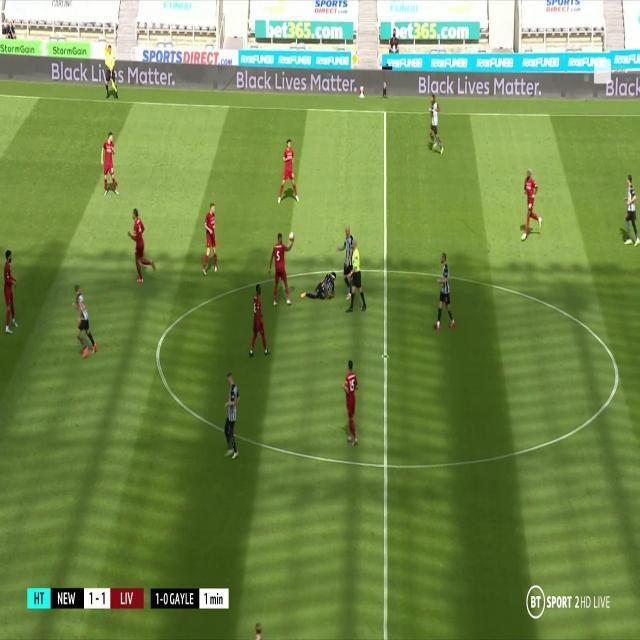ball: (288, 230, 296, 243)
player: (127, 210, 157, 286), (339, 357, 362, 454), (430, 248, 455, 337), (71, 283, 97, 359), (269, 234, 294, 309), (519, 166, 543, 244), (248, 283, 272, 360), (221, 372, 241, 462), (278, 139, 302, 209), (2, 248, 20, 338), (298, 271, 339, 303), (202, 201, 219, 278), (622, 172, 639, 248), (427, 91, 446, 159), (340, 226, 356, 302), (102, 131, 119, 198)
referee: (346, 239, 371, 317), (103, 43, 119, 103)
